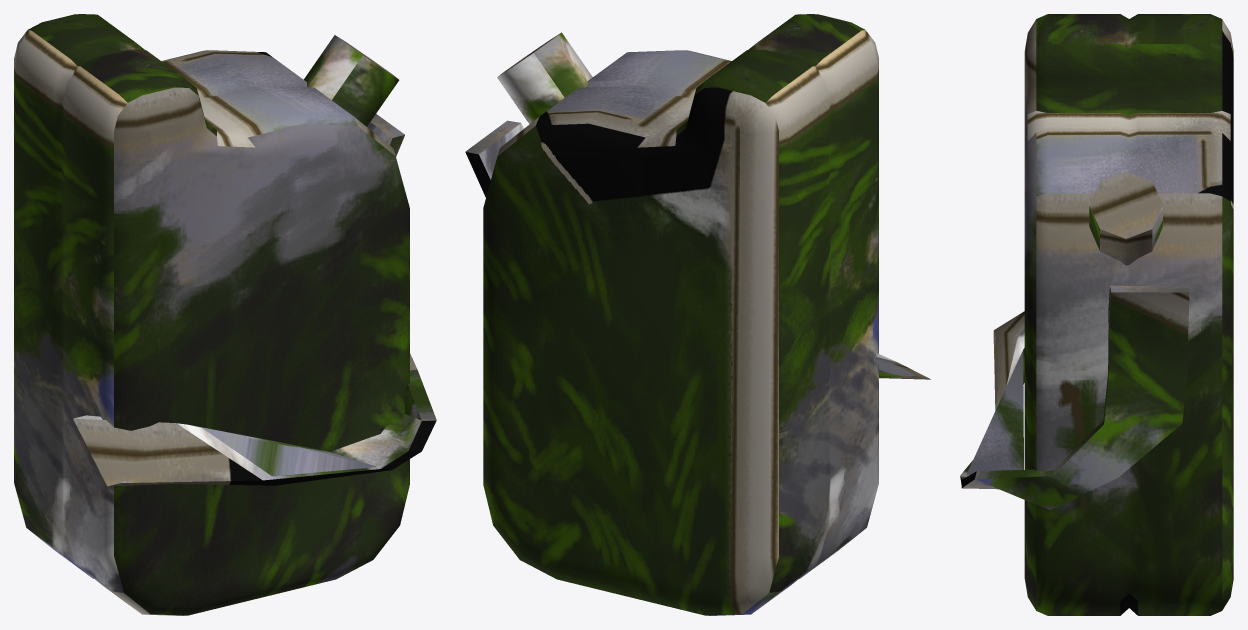
File: канистра.fbx
3 views of the same model, side by side, from view 1: azimuth 30°, elevation 25°; view 2: azimuth 150°, elevation 25°; view 3: azimuth 270°, elevation 25° (orthographic). The views are drawn at different scales.
Parts seen in each view (by area): view 1: Cube.001_Baked; view 2: Cube.001_Baked; view 3: Cube.001_Baked.
Part boxes in pixels (<box>): Cube.001_Baked: <box>14,14,436,615</box>; Cube.001_Baked: <box>465,14,930,615</box>; Cube.001_Baked: <box>960,14,1233,615</box>.
Size of the model in its own units: 237 by 339 by 167.
